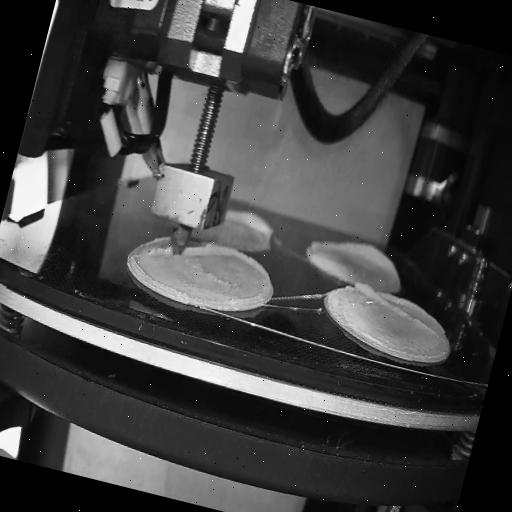over_extrusion: (304, 226, 410, 280), (347, 277, 445, 335), (182, 236, 274, 280), (222, 204, 280, 246), (230, 288, 262, 310), (149, 242, 173, 260)
